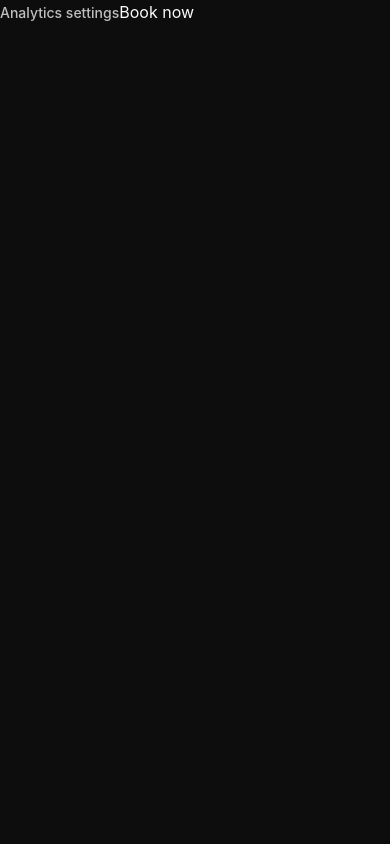
it: optional analytics controls › lets customers decline, revisit settings, accept and revoke without Google requests or blocking booking
Later steps or results of the test are not shown.
Step 1. Click the button "Analytics settings" → x=60, y=13, box [0,3,119,23]
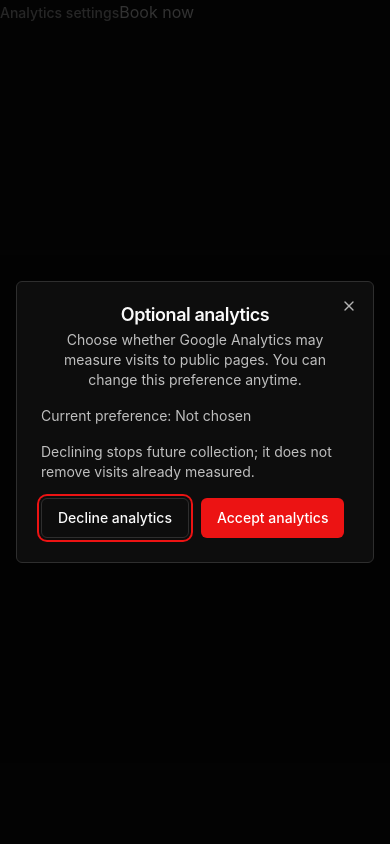
Expected: the text "Current preference: Not chosen" is shown, [41,407,251,424]
Step 2. Click the button "Decline analytics" → x=115, y=518, box [41,498,189,538]
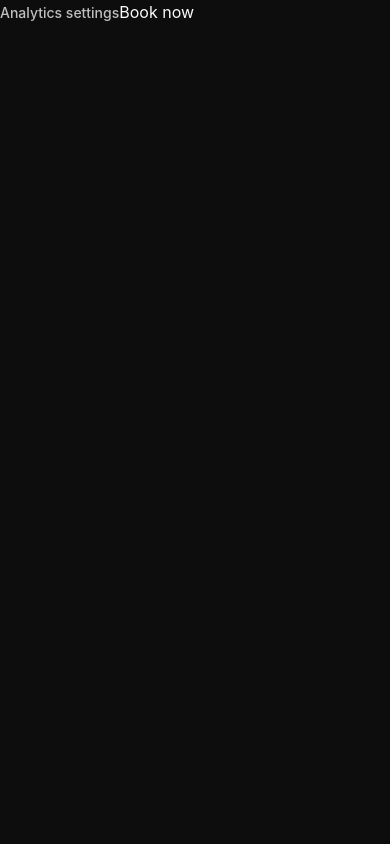
Step 3. Click the button "Analytics settings" → x=60, y=13, box [0,3,119,23]
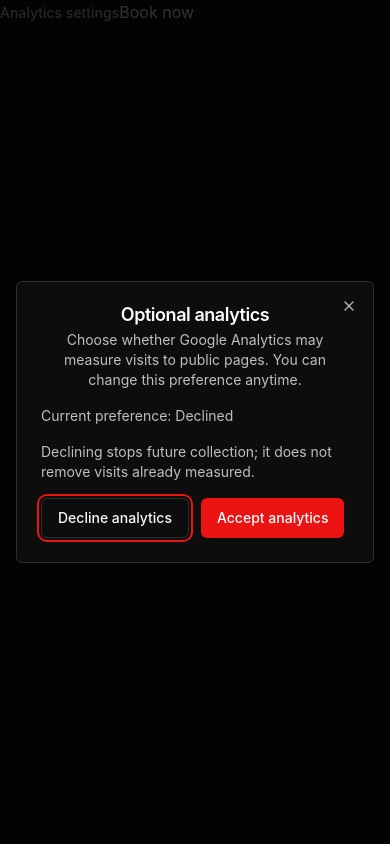
Expected: the text "Current preference: Declined" is shown, [41,407,233,424]
Step 4. Click the button "Accept analytics" → x=273, y=518, box [201,498,344,538]
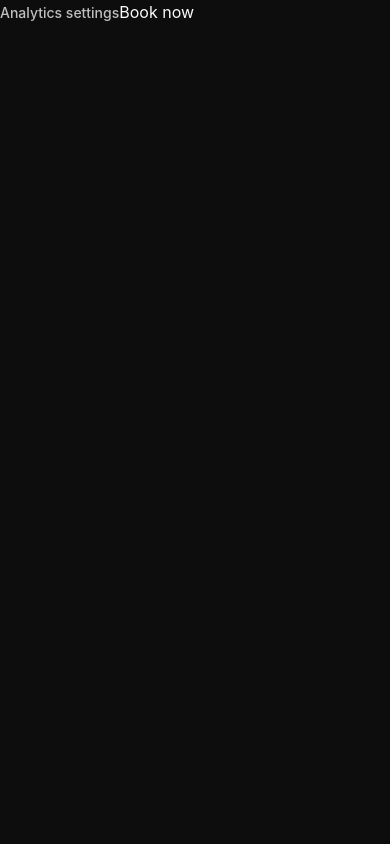
Step 5. Click the button "Analytics settings" → x=60, y=13, box [0,3,119,23]
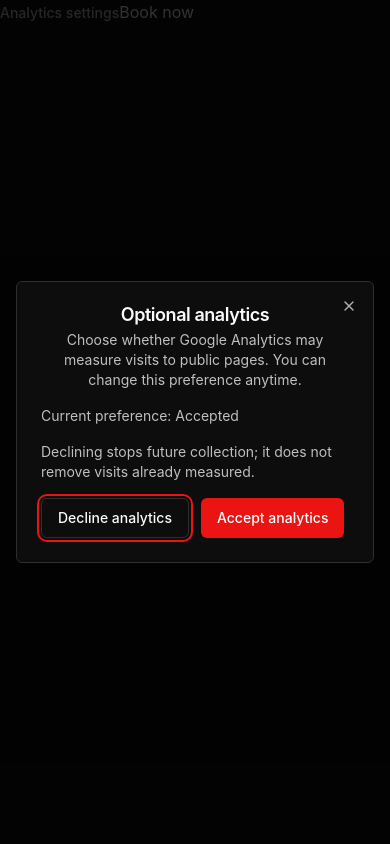
Expected: the text "Current preference: Accepted" is shown, [41,407,239,424]
